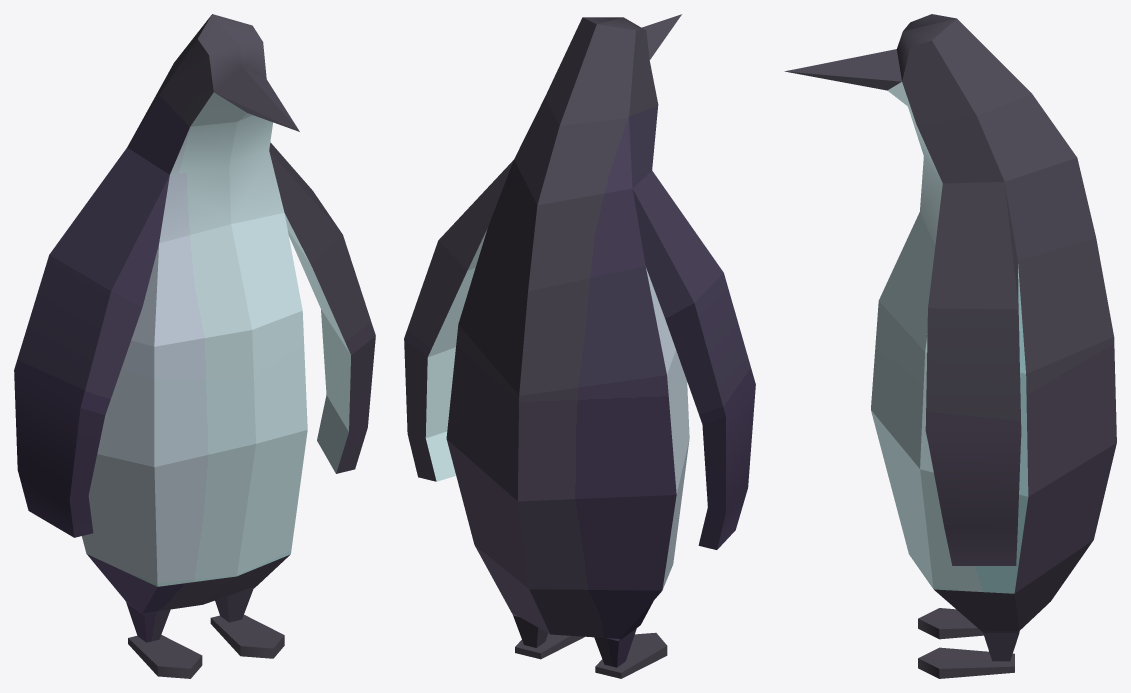
File: SS_Penguiny.fbx
3 views of the same model, side by side, from view 1: azimuth 30°, elevation 25°; view 2: azimuth 150°, elevation 25°; view 3: azimuth 270°, elevation 25° (orthographic). The views are drawn at different scales.
Parts seen in each view (by area): view 1: Penguin; view 2: Penguin; view 3: Penguin.
Boxes of the visible parts, bbox=[...] form: Penguin: bbox=[14, 14, 375, 678]; Penguin: bbox=[404, 14, 755, 678]; Penguin: bbox=[784, 14, 1116, 678].
Size of the model in its own units: 0.5606 by 1.04 by 0.4963.
